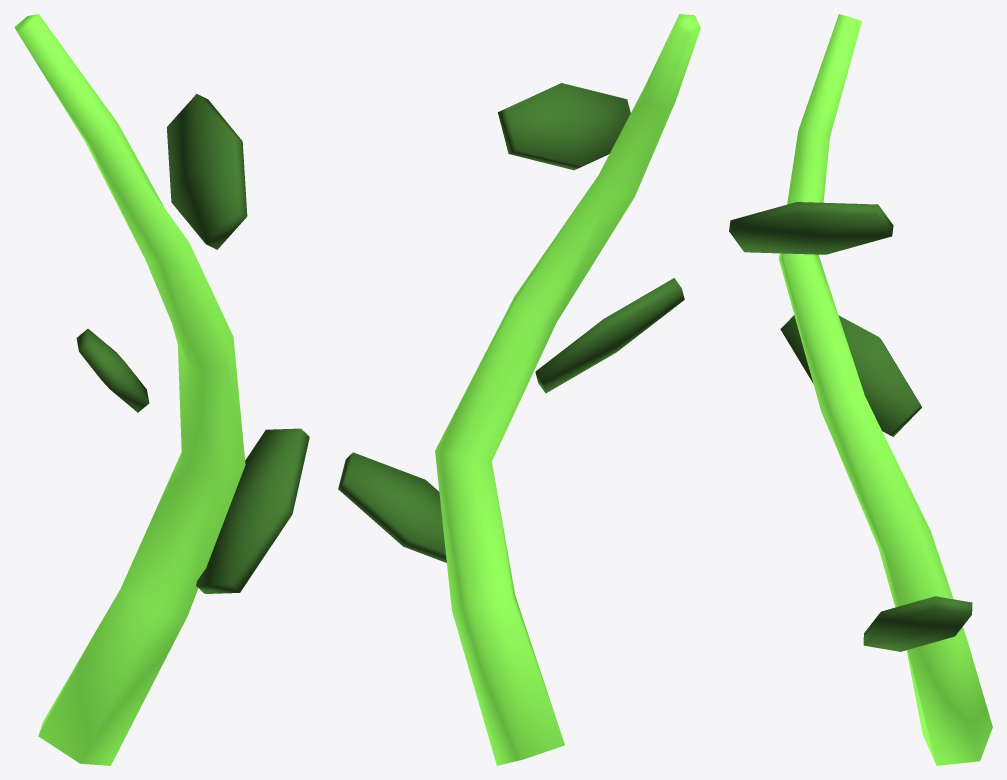
Rendered from vine_short.glb.
3 views of the same model, side by side, from view 1: azimuth 30°, elevation 25°; view 2: azimuth 150°, elevation 25°; view 3: azimuth 270°, elevation 25° (orthographic). The views are drawn at different scales.
Parts seen in each view (by area): view 1: part.vine_short; view 2: part.vine_short; view 3: part.vine_short.
Boxes of the visible parts, x1,y1,x2,y2 form: part.vine_short: [14, 14, 309, 765]; part.vine_short: [338, 14, 700, 765]; part.vine_short: [729, 14, 992, 765].
Bounding box in the file's own units: 0.3171 × 0.7218 × 0.2473.
